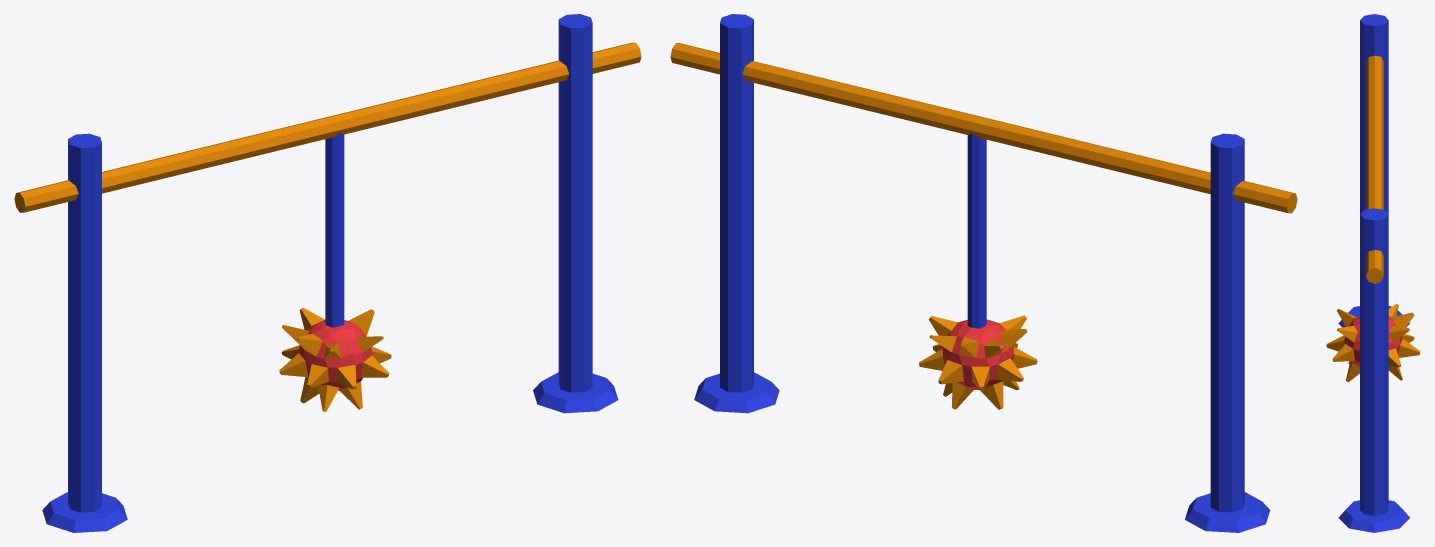
File: engel7.fbx
3 renders of one model, left to right at view 1: azimuth 30°, elevation 25°; view 2: azimuth 150°, elevation 25°; view 3: azimuth 270°, elevation 25°, orthographic. The views are drawn at different scales.
Parts seen in each view (by area): view 1: Cylinder.003, Sphere.001; view 2: Cylinder.003, Sphere.001; view 3: Cylinder.003, Sphere.001.
Part boxes in pixels (x1,y1,x2,y2): Cylinder.003: (14, 14, 641, 532); Sphere.001: (279, 132, 391, 411); Cylinder.003: (670, 14, 1297, 532); Sphere.001: (919, 132, 1037, 409); Cylinder.003: (1338, 14, 1409, 532); Sphere.001: (1326, 303, 1420, 382).
Size of the model in its own units: 1155 by 670 by 188.
